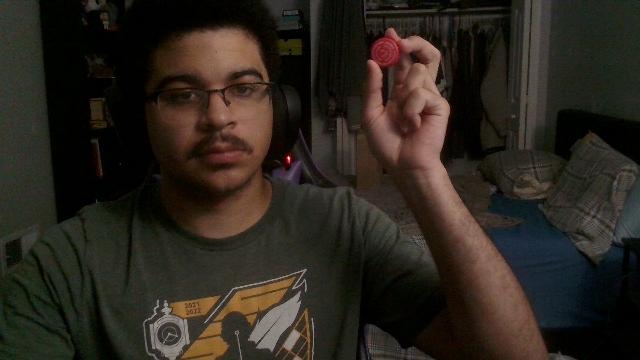cap: (370, 38, 400, 66)
